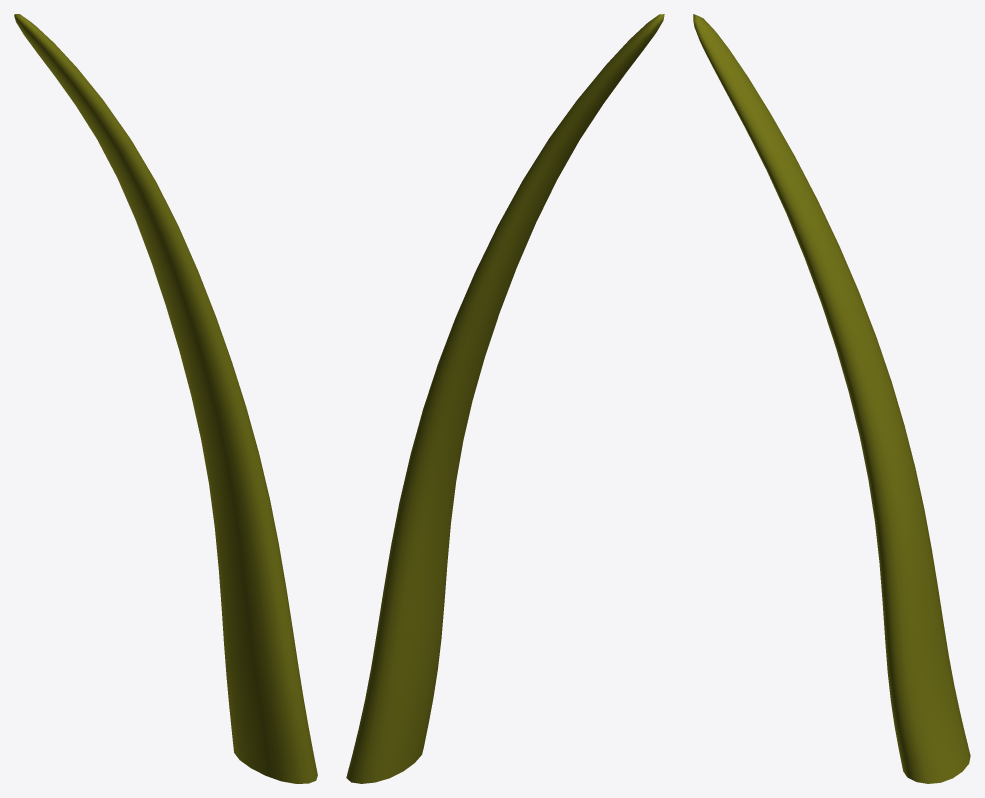
The model's file is grass.glb.
3 views of the same model, side by side, from view 1: azimuth 30°, elevation 25°; view 2: azimuth 150°, elevation 25°; view 3: azimuth 330°, elevation 25° (orthographic). The views are drawn at different scales.
Visible parts, largest first — view 1: grass; view 2: grass; view 3: grass.
Part boxes in pixels (left/top/right/bottom): grass: left=14, top=14, right=317, bottom=783; grass: left=346, top=14, right=664, bottom=783; grass: left=693, top=14, right=970, bottom=783.
Bounding box in the file's own units: 0.182 × 0.4789 × 0.0619.
